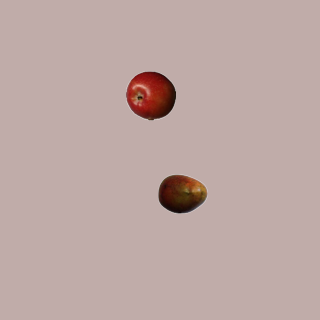Apple Braeburn: (125, 70, 175, 120)
Mango Red: (157, 168, 207, 218)
